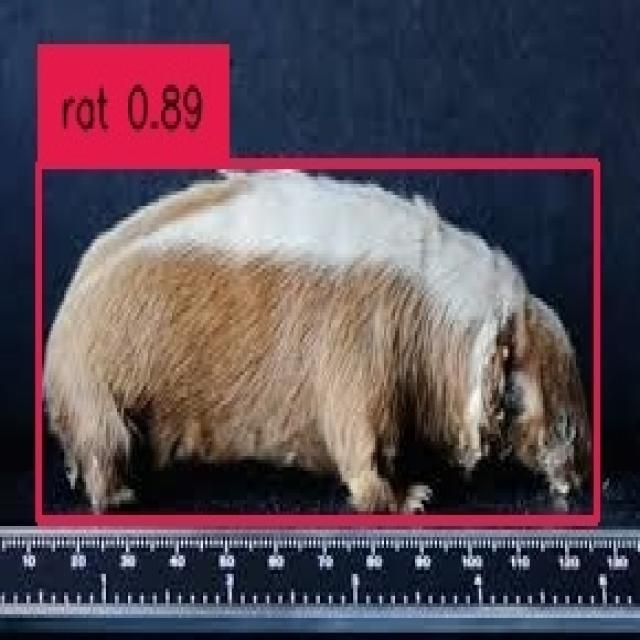rat: (35, 158, 594, 515)
